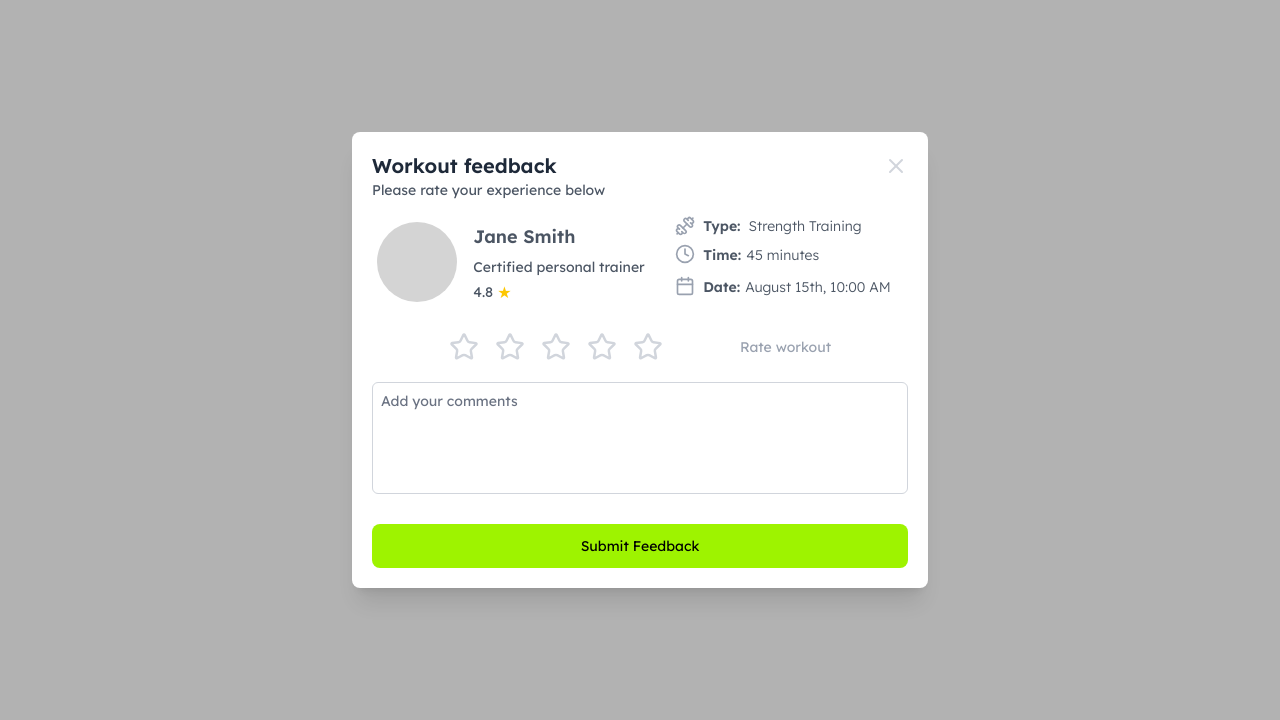
ClientFeedbackModal › clears form after successful submission
Set rating
Click the element named "Rate 4 stars" at point(610, 347), box [602, 332, 617, 362]
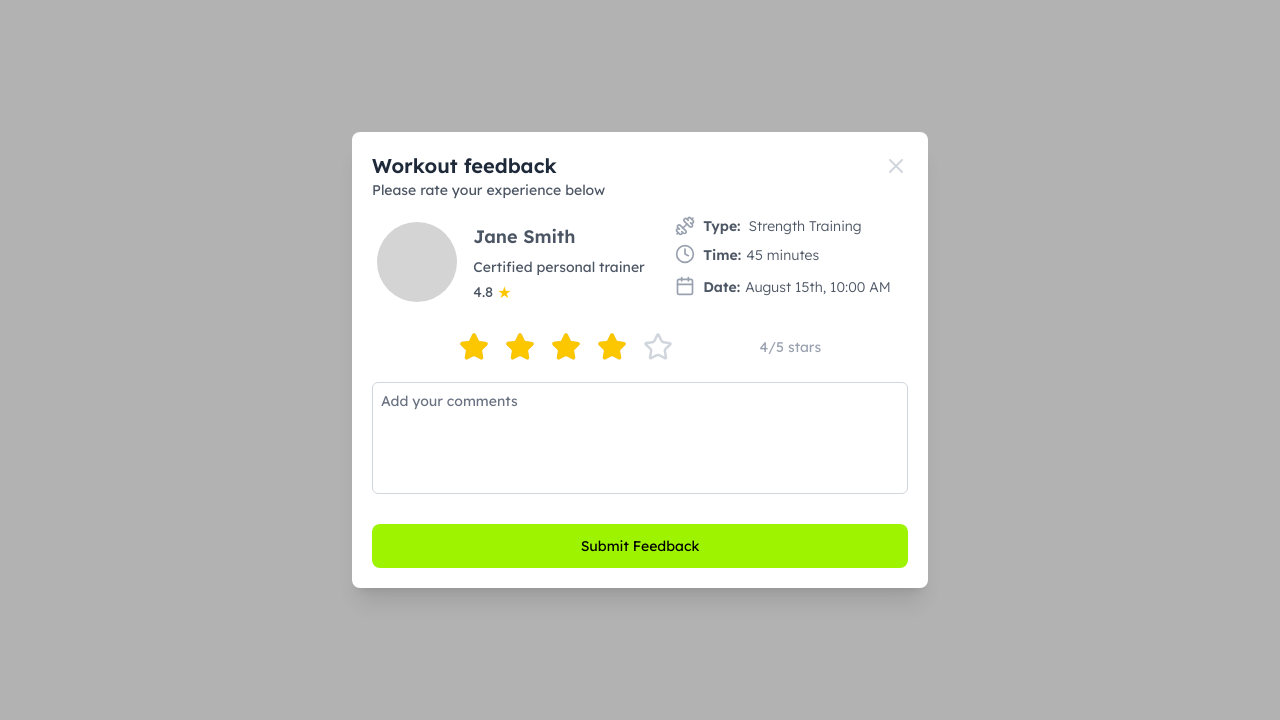
expect the text "4/5 stars" is shown: met, box [760, 337, 821, 357]
Type feedback
Type "Great workout!" into the text box at point(640, 438), box [372, 382, 908, 494]
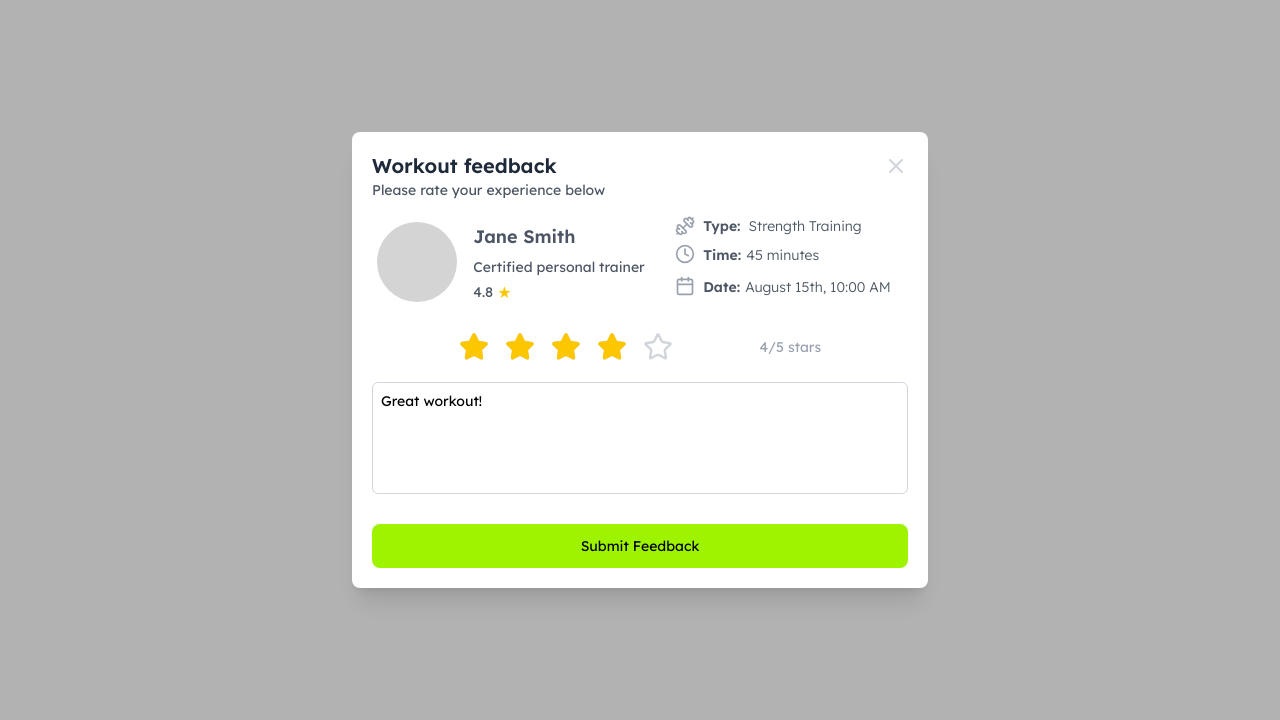
Click the button "Submit Feedback" at point(640, 546), box [372, 524, 908, 568]
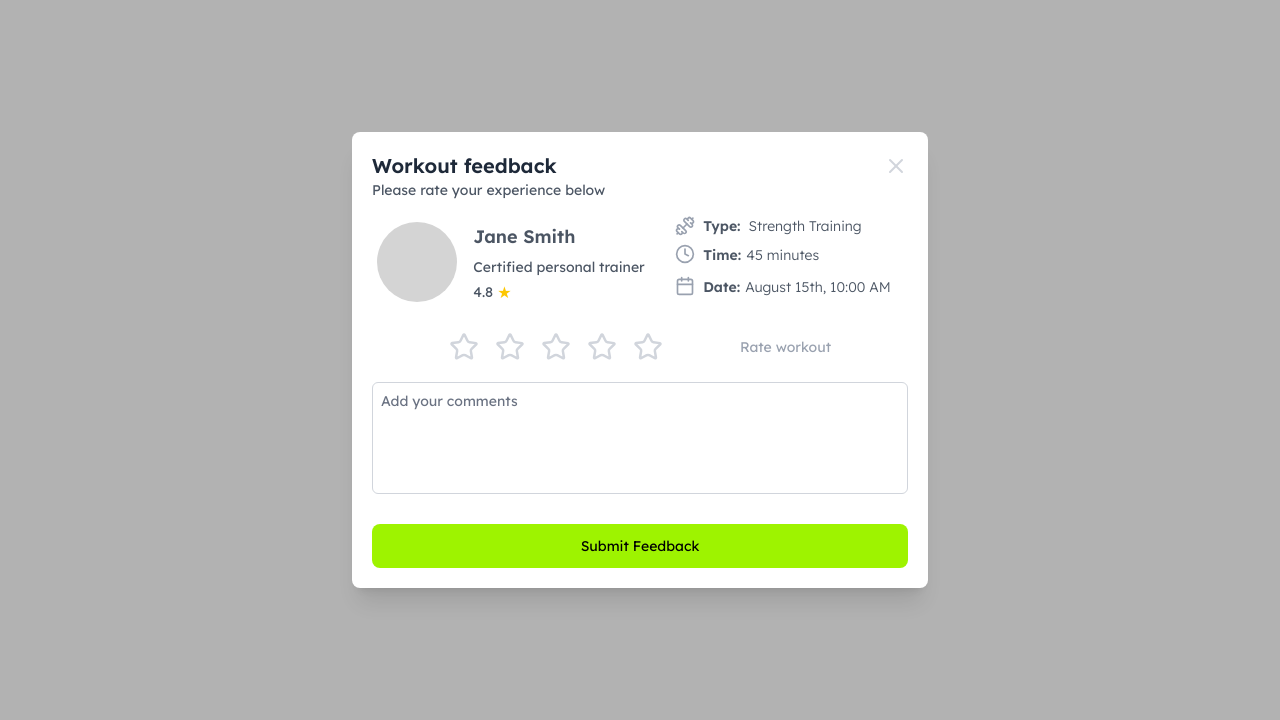
expect the text box is empty: met, box [372, 382, 908, 494]
expect the text "4/5 stars" is gone: met
expect the text "Rate workout" is shown: met, box [740, 337, 831, 357]
